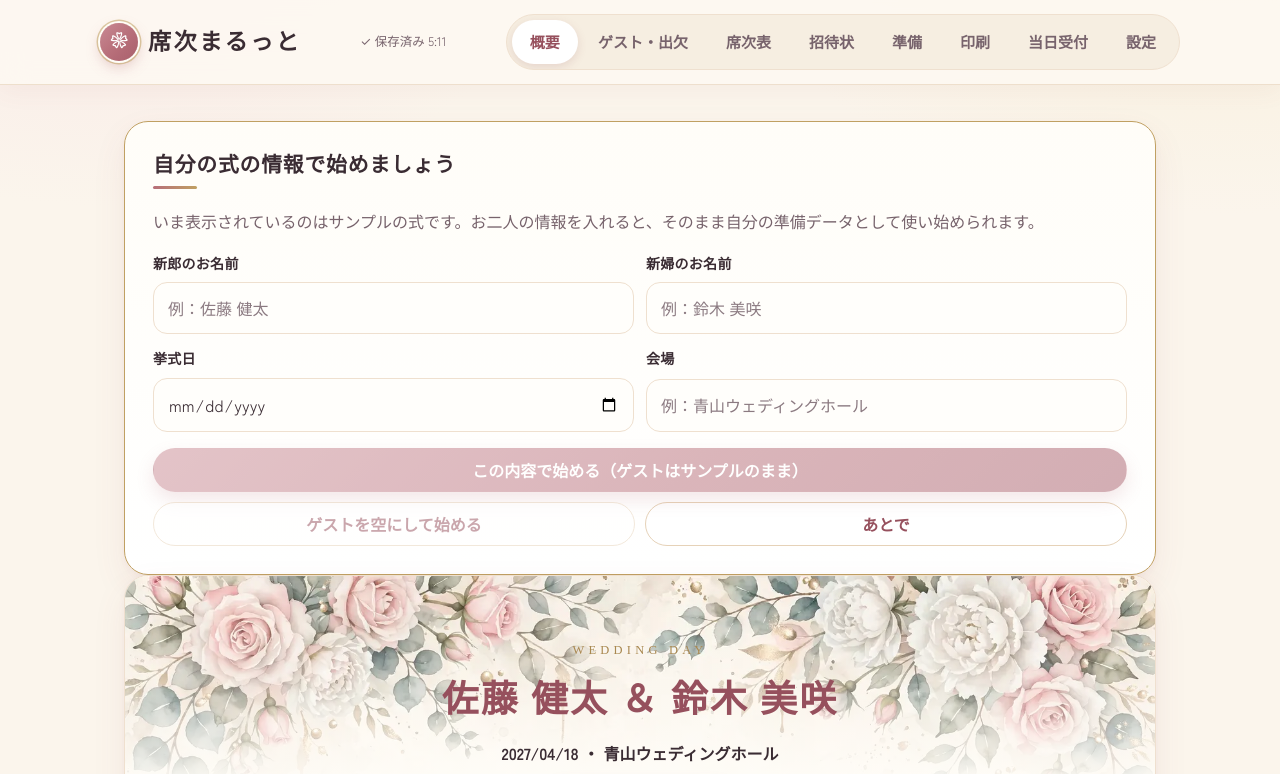
Test: 確認UIと元に戻す › ゲスト削除はページ内確認を経て、元に戻すで復元できる
The width and height of the screenshot is (1280, 774).
Click the tab "ゲスト・出欠". click: (643, 42)
box: left=580, top=20, right=706, bottom=64
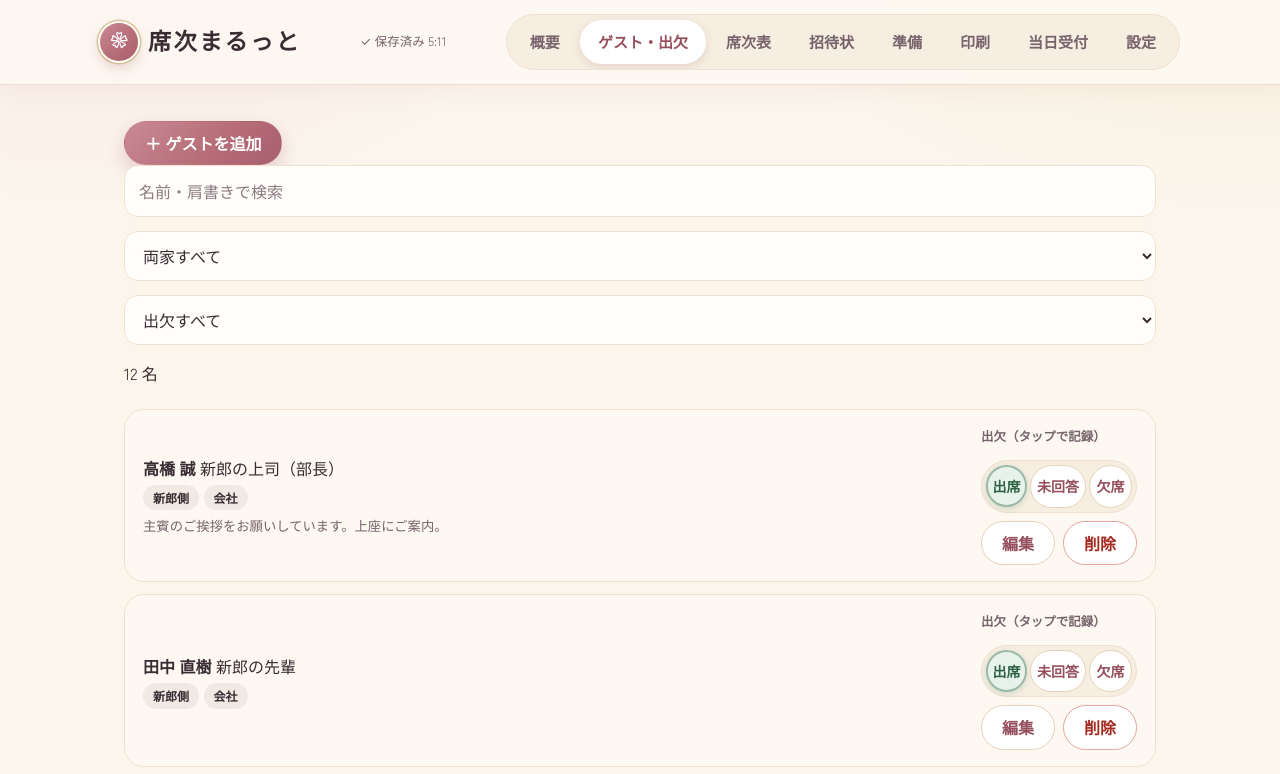
Expected: the text "12 名" is shown, left=124, top=359, right=158, bottom=387
Click the button with aria-label "高橋 誠さんを削除". click: (1100, 543)
box: left=1063, top=521, right=1137, bottom=565
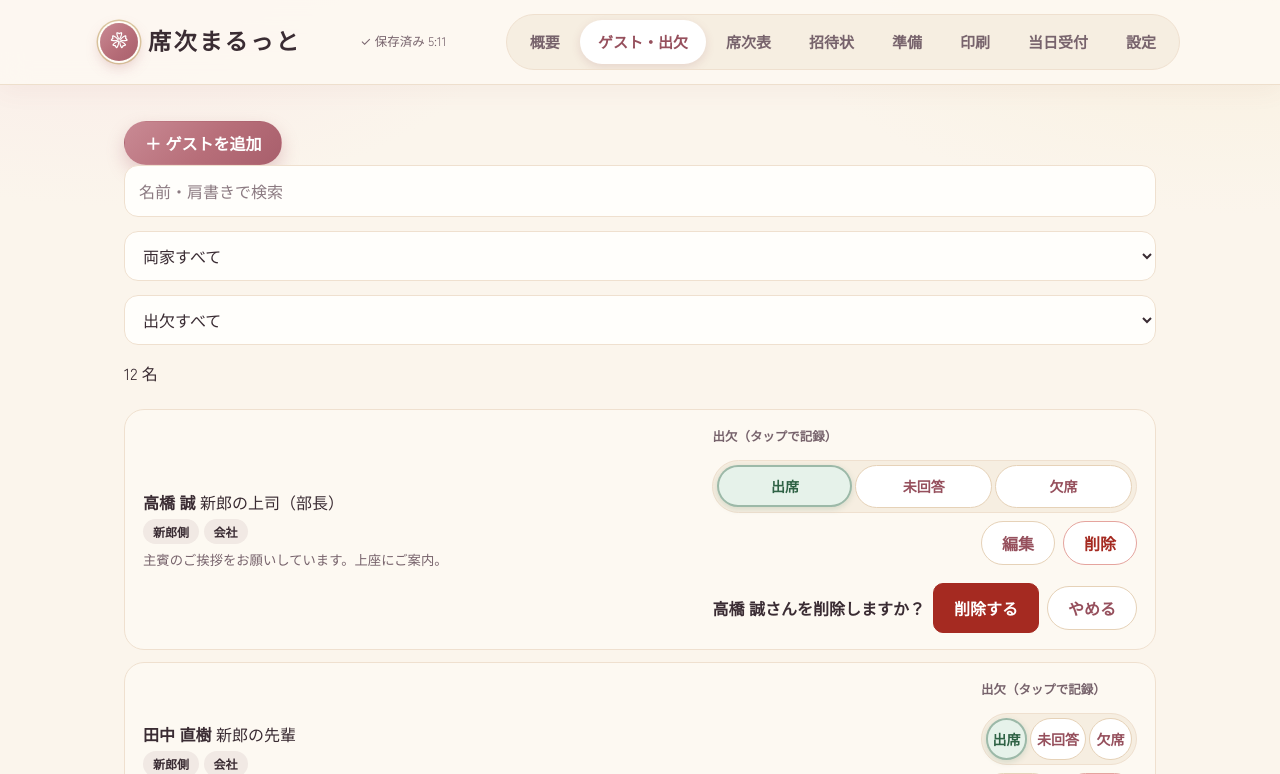
Expected: the text "12 名" is shown, left=124, top=359, right=158, bottom=387
Expected: the text "高橋 誠さんを削除しますか？" is shown, left=712, top=594, right=925, bottom=622
Click the button "削除する". click: (986, 608)
box: left=933, top=583, right=1039, bottom=633
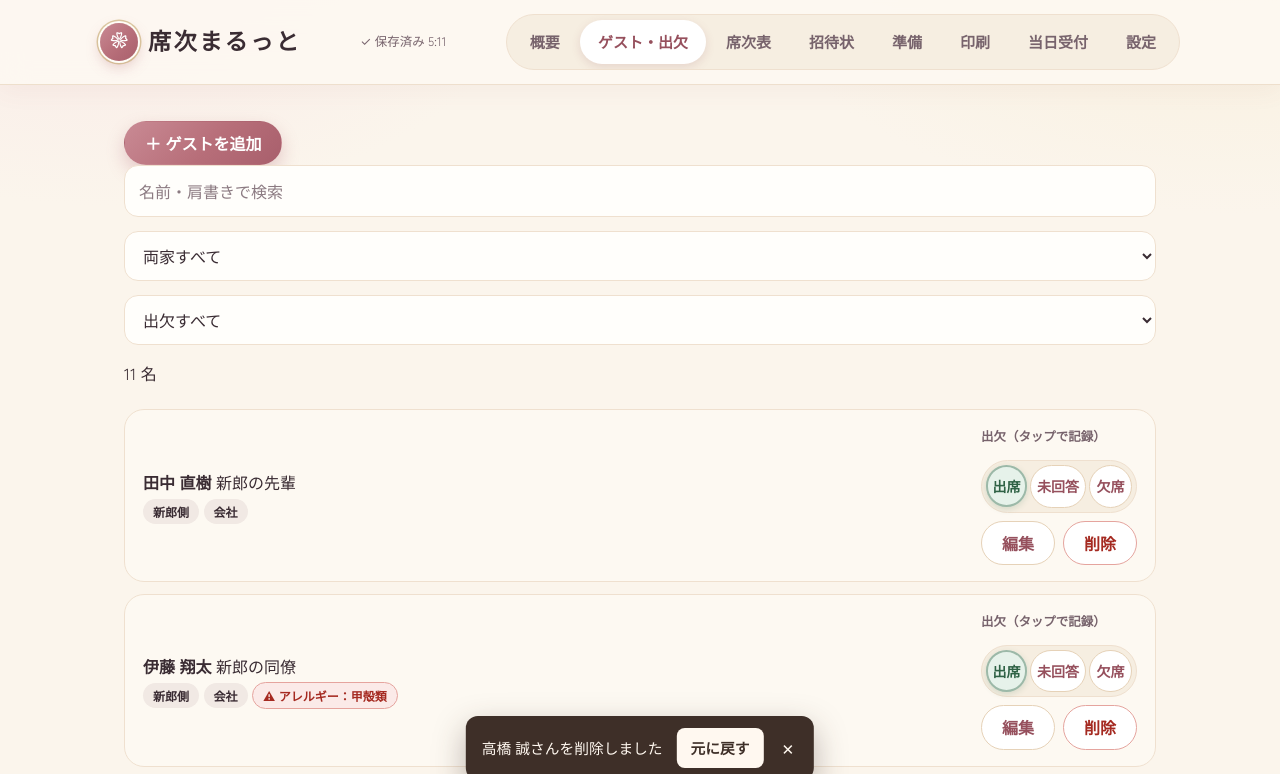
Expected: the text "高橋 誠さんを削除しました" is shown, left=482, top=735, right=663, bottom=761
Click the button "元に戻す". click: (720, 748)
box: left=677, top=728, right=764, bottom=768
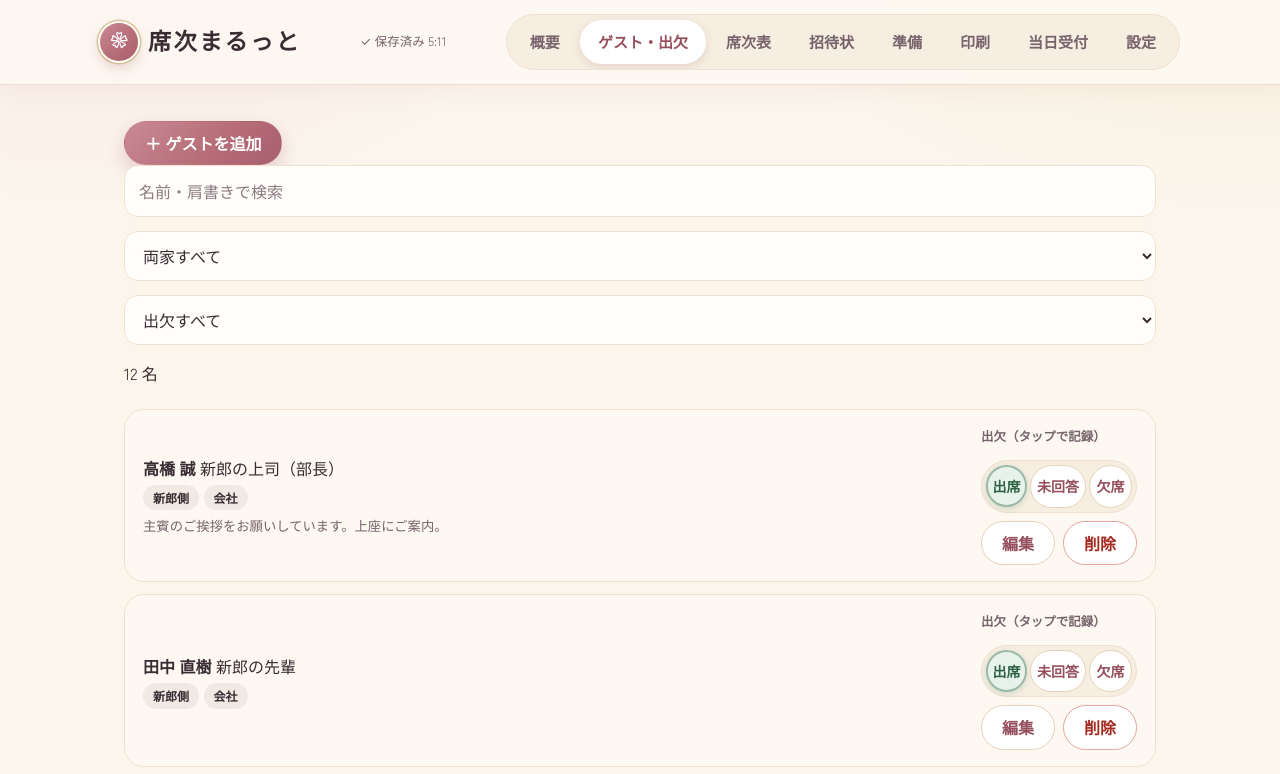
Expected: the text "高橋 誠" is shown, left=143, top=456, right=196, bottom=480
Expected: the text "12 名" is shown, left=124, top=359, right=158, bottom=387
